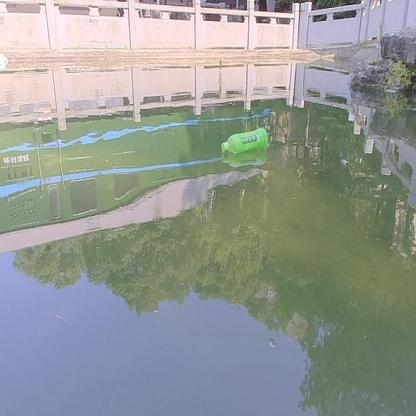plastic bottle: (221, 129, 268, 153)
